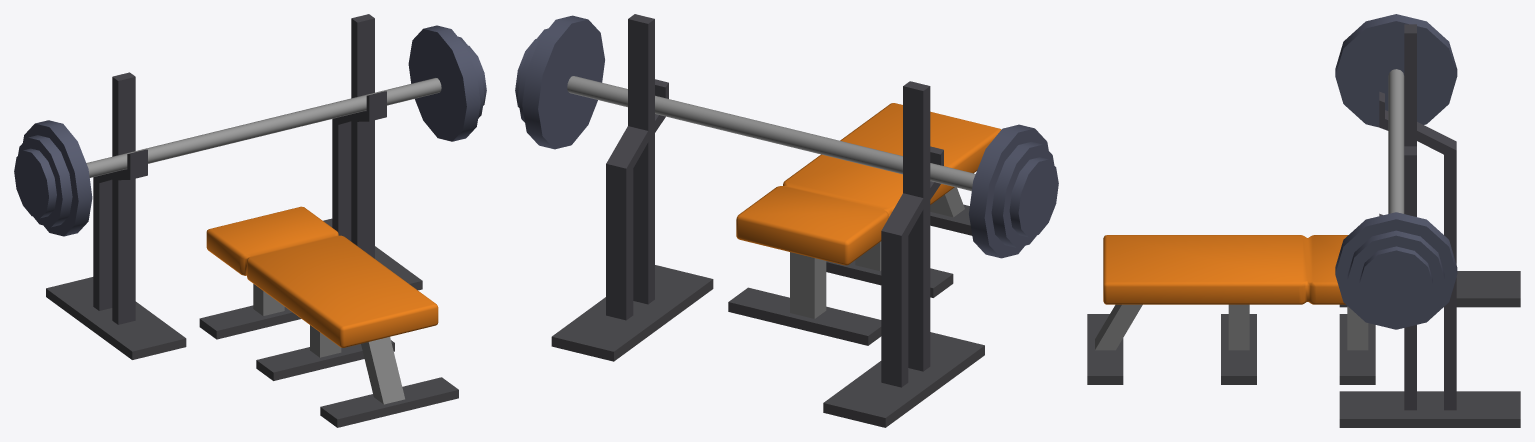
File: bench_press.fbx
3 renders of one model, left to right at view 1: azimuth 30°, elevation 25°; view 2: azimuth 150°, elevation 25°; view 3: azimuth 270°, elevation 25°, orthographic. The views are drawn at different scales.
Visible parts, largest first — view 1: bench_press; view 2: bench_press; view 3: bench_press.
Part boxes in pixels (x1,y1,x2,y2): bench_press: (14, 14, 486, 427); bench_press: (515, 14, 1058, 427); bench_press: (1087, 14, 1520, 427).
Bounding box in the file's own units: 7.9 × 4.36 × 6.48.
